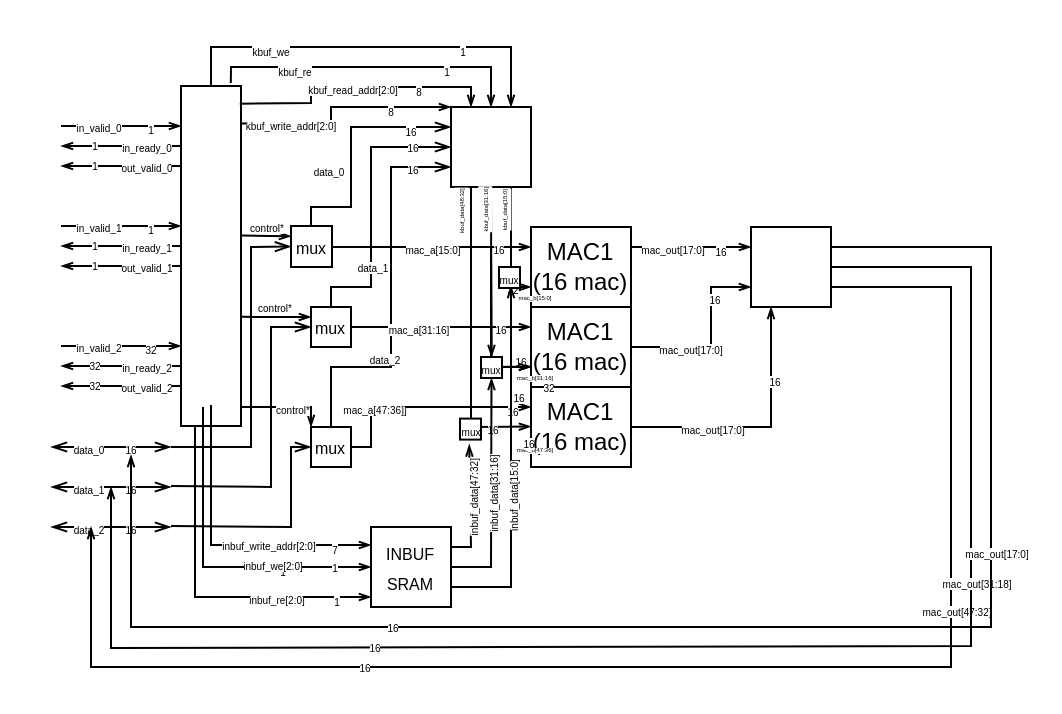
The diagram is 1062 pixels wide and 714 high, and some of its shapes have lost their labels. Each missing label, with the box of its shape:
FSM: (179, 84, 241, 426)
KBUF SRAM: (449, 105, 531, 187)
OUT BUF: (749, 225, 831, 307)
